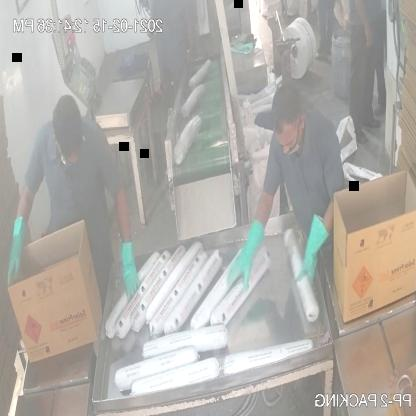glove: (224, 206, 270, 304), (294, 206, 334, 300), (3, 204, 30, 292), (113, 230, 142, 307)
no_glove: (352, 0, 380, 56), (184, 18, 204, 68)
